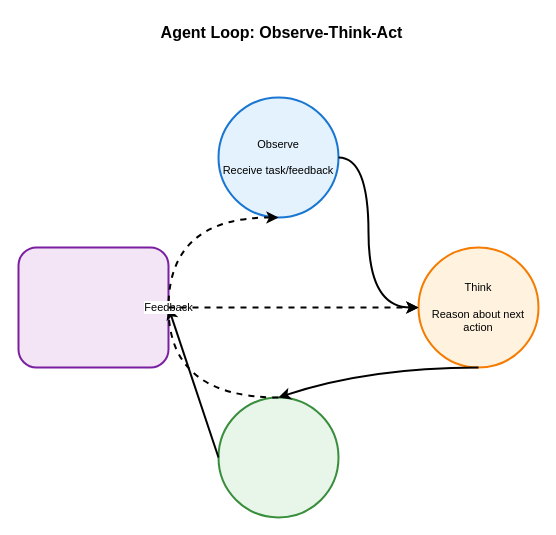
The diagram is 556 pixels wide and 535 high, and some of its shapes have lost their labels. The shapes that lost their labels are listed below. From the top down, each one's box as (x1, y1, x2, y2) in pixels, then its label:
(17, 246, 169, 368): Tools • Code Execution • Search • APIs • File Ops
(217, 396, 339, 518): Act Execute tool or output
